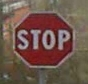stop: (10, 9, 75, 69)
